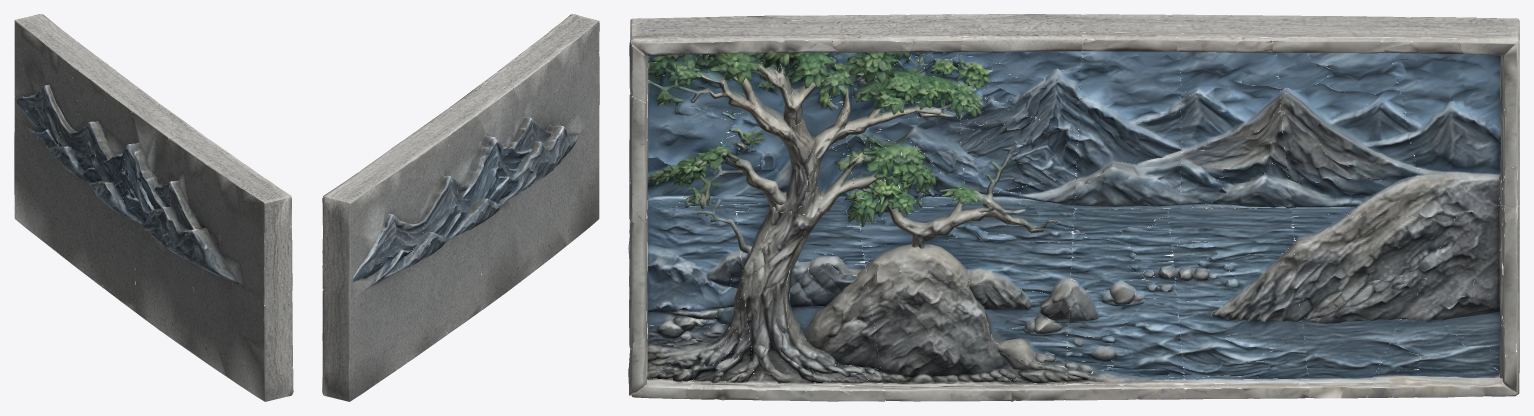
Rendered from relief-5.glb.
The picture shows the model from 3 angles, left to right: view 1: azimuth 30°, elevation 25°; view 2: azimuth 150°, elevation 25°; view 3: azimuth 270°, elevation 25°; orthographic projection. The views are drawn at different scales.
Parts seen in each view (by area): view 1: tripo_node_bb8a88a1-14c1-4103-b3e1-07b8fdd2cf5e; view 2: tripo_node_bb8a88a1-14c1-4103-b3e1-07b8fdd2cf5e; view 3: tripo_node_bb8a88a1-14c1-4103-b3e1-07b8fdd2cf5e.
Part boxes in pixels (<box>): tripo_node_bb8a88a1-14c1-4103-b3e1-07b8fdd2cf5e: <box>14,14,293,401</box>; tripo_node_bb8a88a1-14c1-4103-b3e1-07b8fdd2cf5e: <box>322,14,599,401</box>; tripo_node_bb8a88a1-14c1-4103-b3e1-07b8fdd2cf5e: <box>628,14,1519,401</box>.
Bounding box in the file's own units: 0.1384 × 0.4325 × 0.9821.
Materials: 1 (1 with a texture image).
